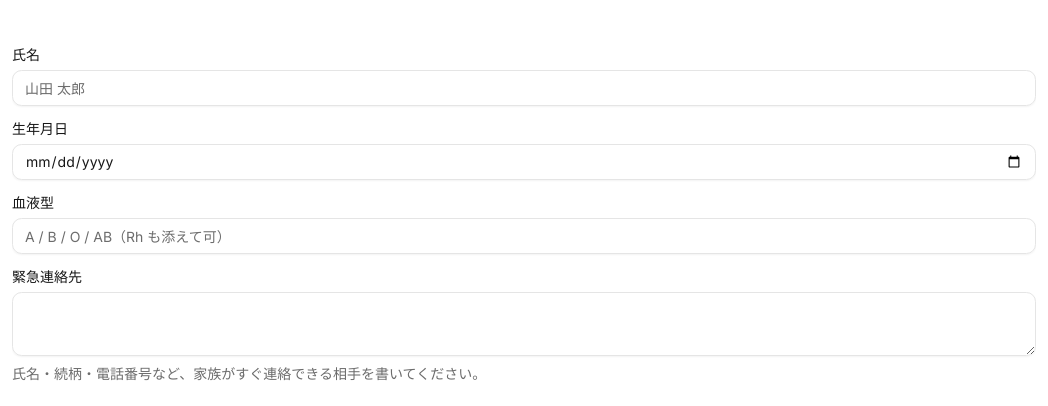
Test case: SectionForm › keeps the input value and shows toast when PATCH fails (DoD)
The image size is (1048, 406).
Type "太郎" into the field labelled "氏名". click: (524, 88)
box: [12,70,1036,106]
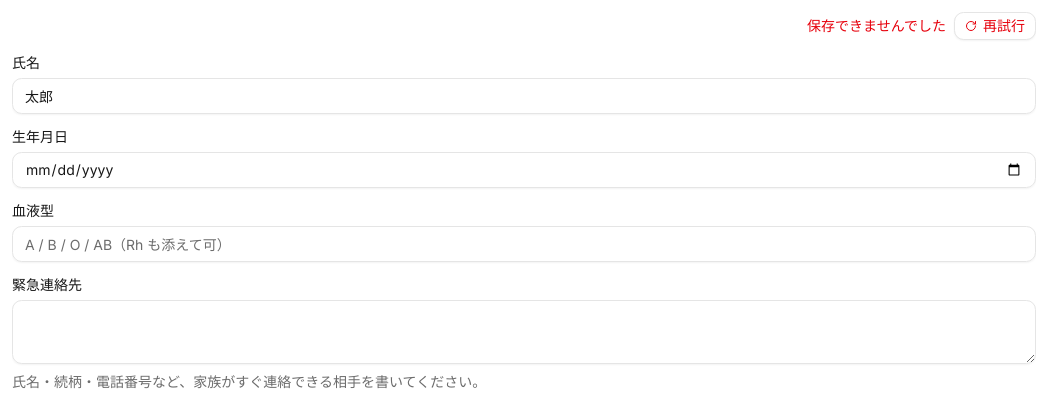
expect the button "再試行" is shown: met, box [954,12,1036,40]
